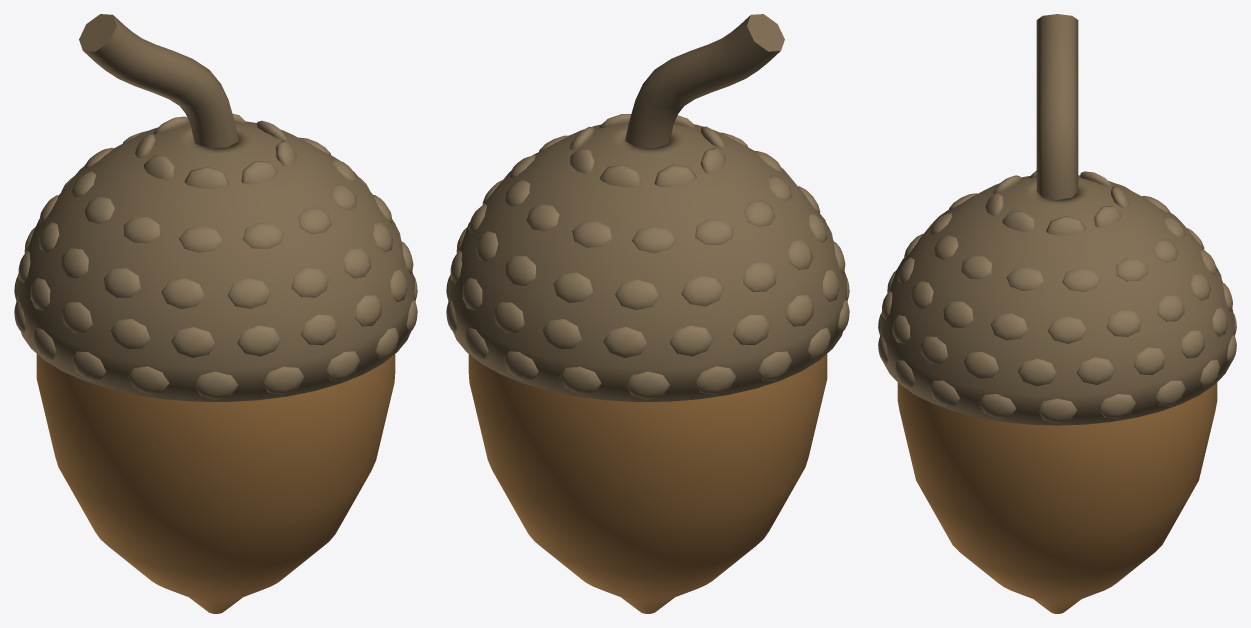
File: A-NEW-20261027-ACORN-001_LOD1_R1.glb
3 renders of one model, left to right at view 1: azimuth 30°, elevation 25°; view 2: azimuth 150°, elevation 25°; view 3: azimuth 270°, elevation 25°, orthographic. The views are drawn at different scales.
Visible parts, largest first — view 1: attached thick woody cup, smooth whole nut, short attached woody stalk, embedded woody cup scale 029, embedded woody cup scale 030, embedded woody cup scale 046, embedded woody cup scale 045, embedded woody cup scale 028, embedded woody cup scale 012, embedded woody cup scale 059, embedded woody cup scale 044, embedded woody cup scale 047 (+16 smaller); view 2: attached thick woody cup, smooth whole nut, short attached woody stalk, embedded woody cup scale 023, embedded woody cup scale 040, embedded woody cup scale 024, embedded woody cup scale 041, embedded woody cup scale 039, embedded woody cup scale 006, embedded woody cup scale 022, embedded woody cup scale 055, embedded woody cup scale 005 (+15 smaller); view 3: attached thick woody cup, smooth whole nut, short attached woody stalk, embedded woody cup scale 035, embedded woody cup scale 051, embedded woody cup scale 018, embedded woody cup scale 050, embedded woody cup scale 034, embedded woody cup scale 036, embedded woody cup scale 000, embedded woody cup scale 064, embedded woody cup scale 019 (+13 smaller).
Boxes of the visible parts, x1,y1,x2,y2 form: attached thick woody cup: [17, 121, 414, 401]; smooth whole nut: [36, 354, 395, 613]; short attached woody stalk: [79, 14, 238, 148]; embedded woody cup scale 029: [171, 327, 215, 357]; embedded woody cup scale 030: [237, 325, 280, 356]; embedded woody cup scale 046: [227, 278, 270, 308]; embedded woody cup scale 045: [161, 278, 204, 308]; embedded woody cup scale 028: [110, 319, 150, 349]; embedded woody cup scale 012: [194, 371, 238, 399]; embedded woody cup scale 059: [179, 225, 222, 252]; embedded woody cup scale 044: [104, 268, 140, 297]; embedded woody cup scale 047: [291, 268, 328, 297]; attached thick woody cup: [449, 123, 846, 401]; smooth whole nut: [468, 354, 827, 613]; short attached woody stalk: [625, 14, 784, 148]; embedded woody cup scale 023: [603, 327, 647, 358]; embedded woody cup scale 040: [615, 279, 659, 309]; embedded woody cup scale 024: [670, 325, 712, 356]; embedded woody cup scale 041: [681, 276, 723, 306]; embedded woody cup scale 039: [553, 272, 593, 302]; embedded woody cup scale 006: [625, 371, 669, 399]; embedded woody cup scale 022: [542, 319, 581, 349]; embedded woody cup scale 055: [632, 226, 675, 253]; embedded woody cup scale 005: [559, 366, 601, 394]; attached thick woody cup: [880, 175, 1234, 425]; smooth whole nut: [897, 382, 1217, 613]; short attached woody stalk: [1036, 14, 1078, 199]; embedded woody cup scale 035: [1017, 358, 1056, 386]; embedded woody cup scale 051: [1048, 316, 1087, 343]; embedded woody cup scale 018: [1076, 357, 1115, 384]; embedded woody cup scale 050: [991, 313, 1027, 340]; embedded woody cup scale 034: [963, 352, 998, 378]; embedded woody cup scale 036: [1106, 310, 1141, 336]; embedded woody cup scale 000: [1037, 398, 1077, 423]; embedded woody cup scale 064: [1062, 267, 1100, 291]; embedded woody cup scale 019: [1133, 347, 1166, 374].
Bounding box in the file's own units: 0.0329 × 0.0553 × 0.0326.
